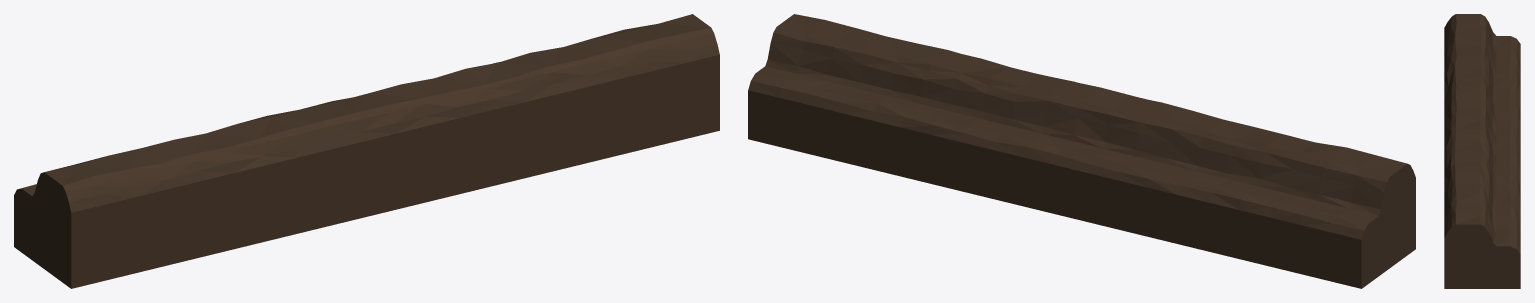
The model's file is SM_MapFrame002_SegA.fbx.
3 renders of one model, left to right at view 1: azimuth 30°, elevation 25°; view 2: azimuth 150°, elevation 25°; view 3: azimuth 270°, elevation 25°, orthographic. The views are drawn at different scales.
Visible parts, largest first — view 1: SM_MapFrame002_SegA; view 2: SM_MapFrame002_SegA; view 3: SM_MapFrame002_SegA.
Part boxes in pixels (x1=…): SM_MapFrame002_SegA: x1=14, y1=14, x2=719, y2=288; SM_MapFrame002_SegA: x1=748, y1=14, x2=1415, y2=288; SM_MapFrame002_SegA: x1=1444, y1=14, x2=1520, y2=288.
Size of the model in its own units: 157 by 24 by 22.74.
